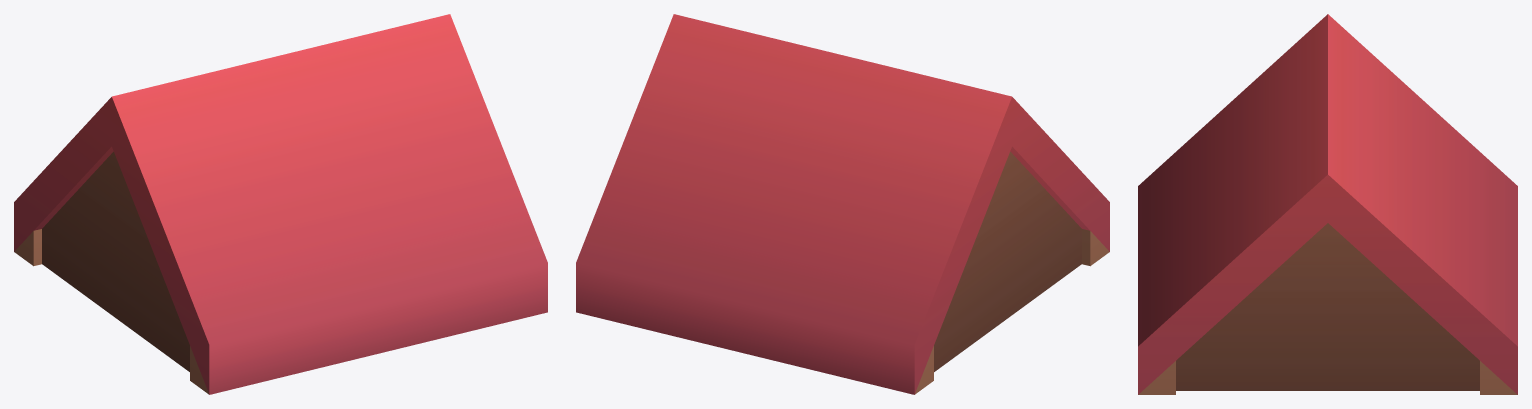
The model's file is roof-high-gable-top.glb.
3 renders of one model, left to right at view 1: azimuth 30°, elevation 25°; view 2: azimuth 150°, elevation 25°; view 3: azimuth 270°, elevation 25°, orthographic. The views are drawn at different scales.
Visible parts, largest first — view 1: roof-high-gable-top; view 2: roof-high-gable-top; view 3: roof-high-gable-top.
Boxes of the visible parts, bbox=[...] form: roof-high-gable-top: bbox=[14, 14, 547, 394]; roof-high-gable-top: bbox=[576, 14, 1109, 394]; roof-high-gable-top: bbox=[1138, 14, 1517, 394].
Bounding box in the file's own units: 1 × 0.6407 × 1.
Materials: 1 (1 with a texture image).
